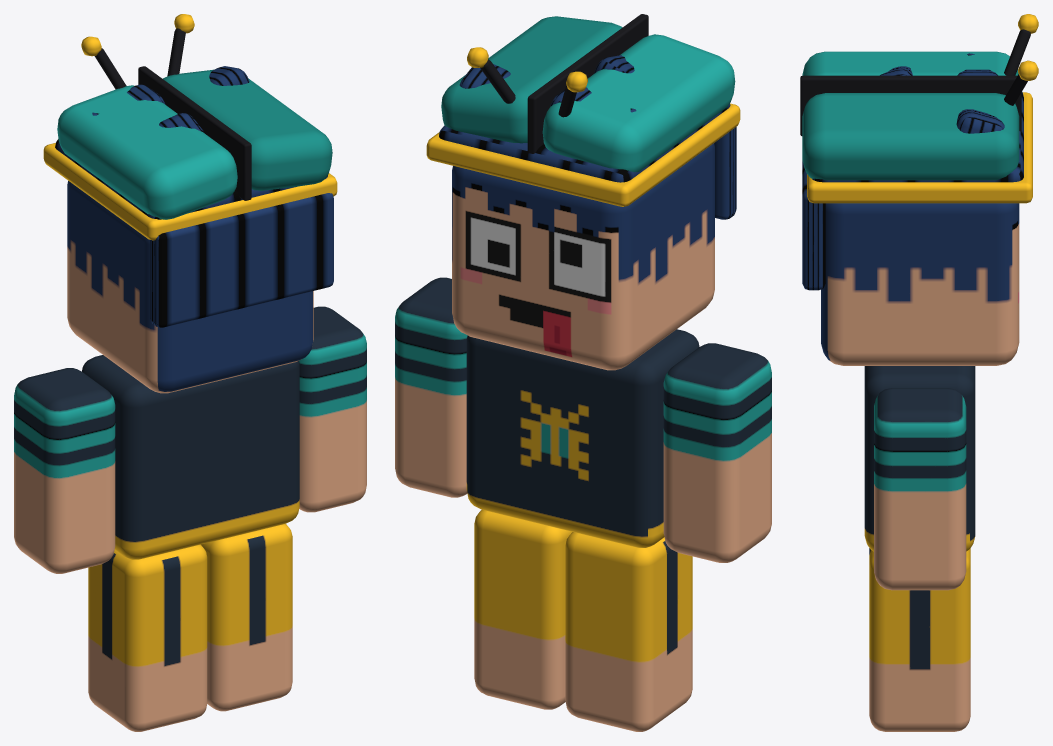
Rendered from scarabkid-Ck80S9xs.glb.
The picture shows the model from 3 angles, left to right: view 1: azimuth 30°, elevation 25°; view 2: azimuth 150°, elevation 25°; view 3: azimuth 270°, elevation 25°; orthographic projection. The views are drawn at different scales.
Parts seen in each view (by area): view 1: neck_mesh, hips_mesh, legL_mesh, armL_mesh, legR_mesh, armR_mesh; view 2: neck_mesh, hips_mesh, legL_mesh, armL_mesh, legR_mesh, armR_mesh; view 3: neck_mesh, armR_mesh, legR_mesh, hips_mesh.
Boxes of the visible parts, <box> form: neck_mesh: <box>43,14,337,393</box>; hips_mesh: <box>82,355,299,559</box>; legL_mesh: <box>88,544,207,731</box>; armL_mesh: <box>14,368,115,573</box>; legR_mesh: <box>201,524,292,711</box>; armR_mesh: <box>299,306,366,512</box>; neck_mesh: <box>426,14,740,370</box>; hips_mesh: <box>466,329,699,547</box>; legL_mesh: <box>565,532,692,731</box>; armL_mesh: <box>663,343,771,562</box>; legR_mesh: <box>474,509,572,709</box>; armR_mesh: <box>395,277,467,497</box>; neck_mesh: <box>800,14,1038,365</box>; armR_mesh: <box>874,388,966,590</box>; legR_mesh: <box>869,548,970,731</box>; hips_mesh: <box>864,366,975,551</box>.
Size of the model in its own units: 1.66 by 3.14 by 1.04.
1 material, 1 textured.
